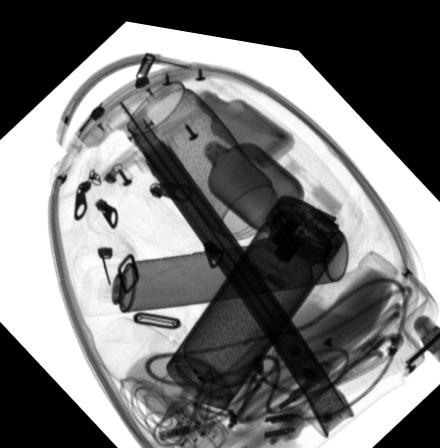Sprayer: (79, 219, 349, 314)
